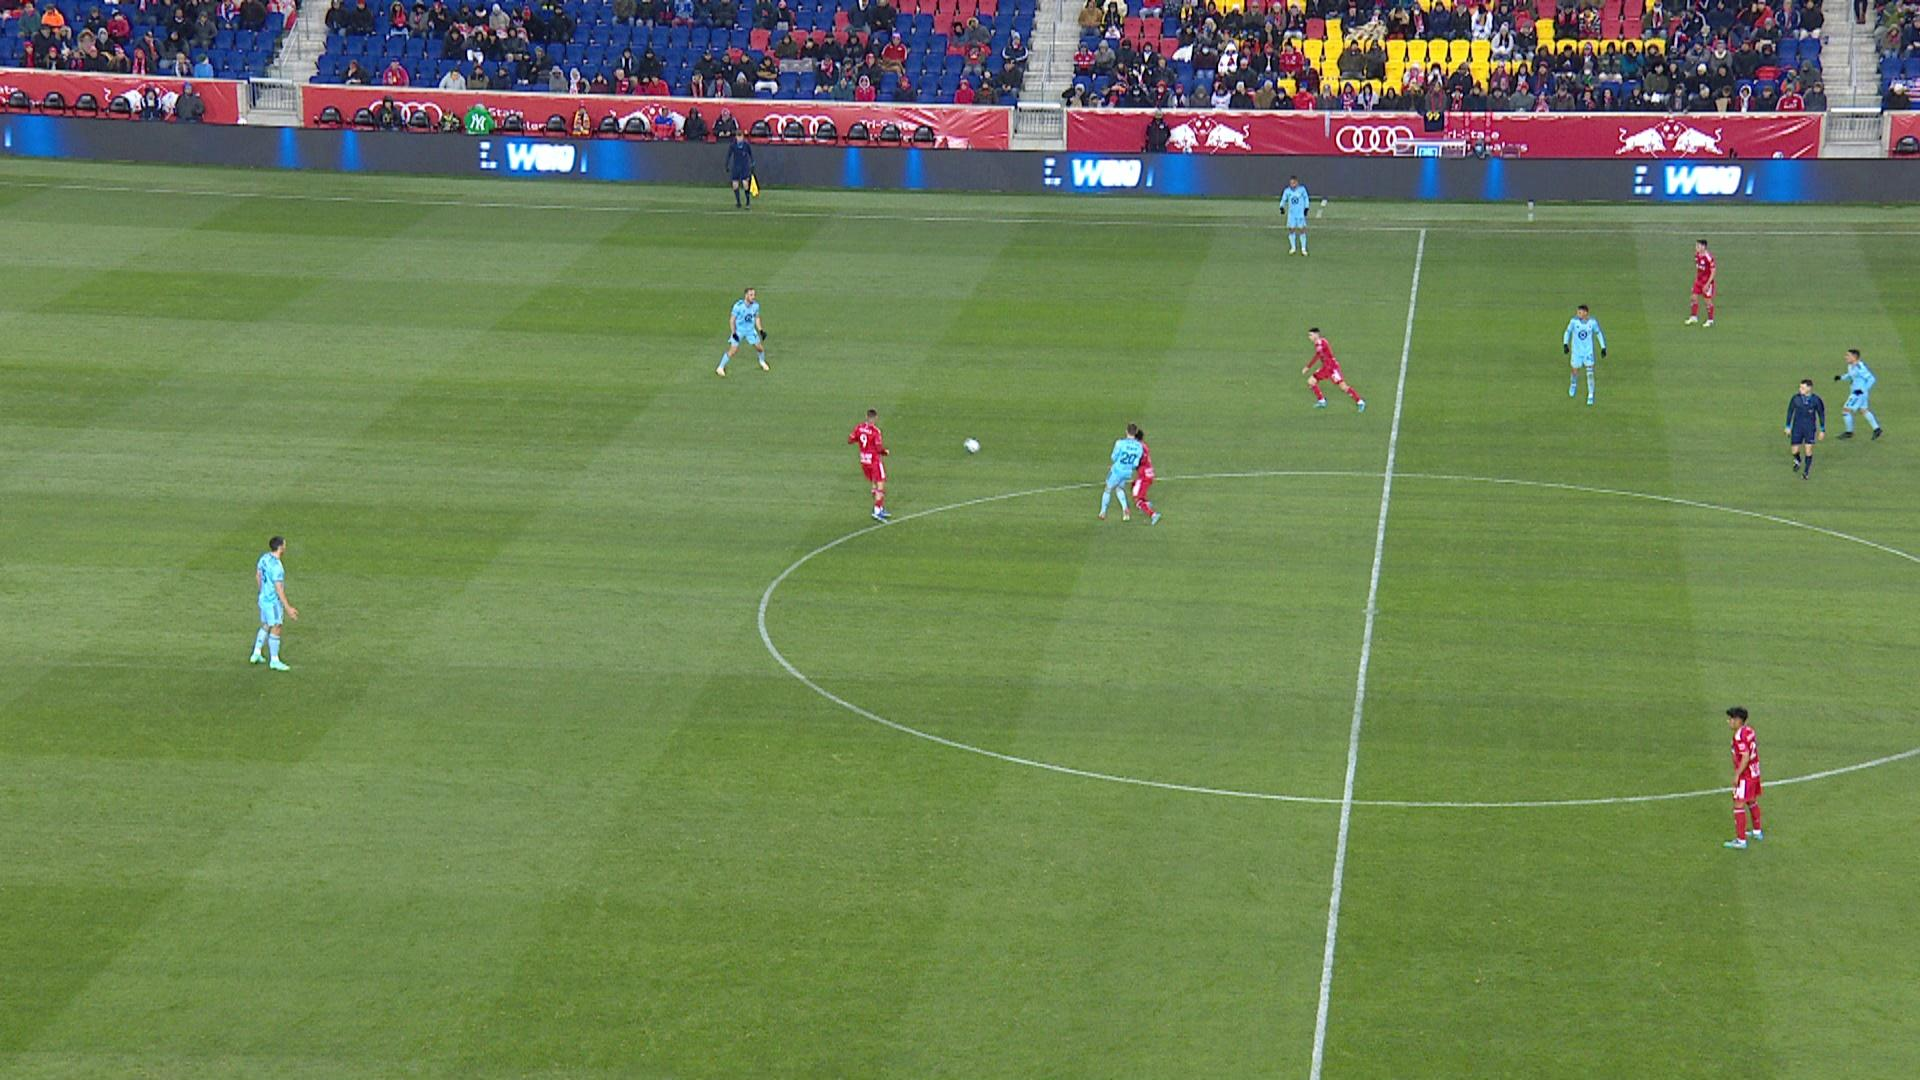football: (964, 437, 981, 454)
